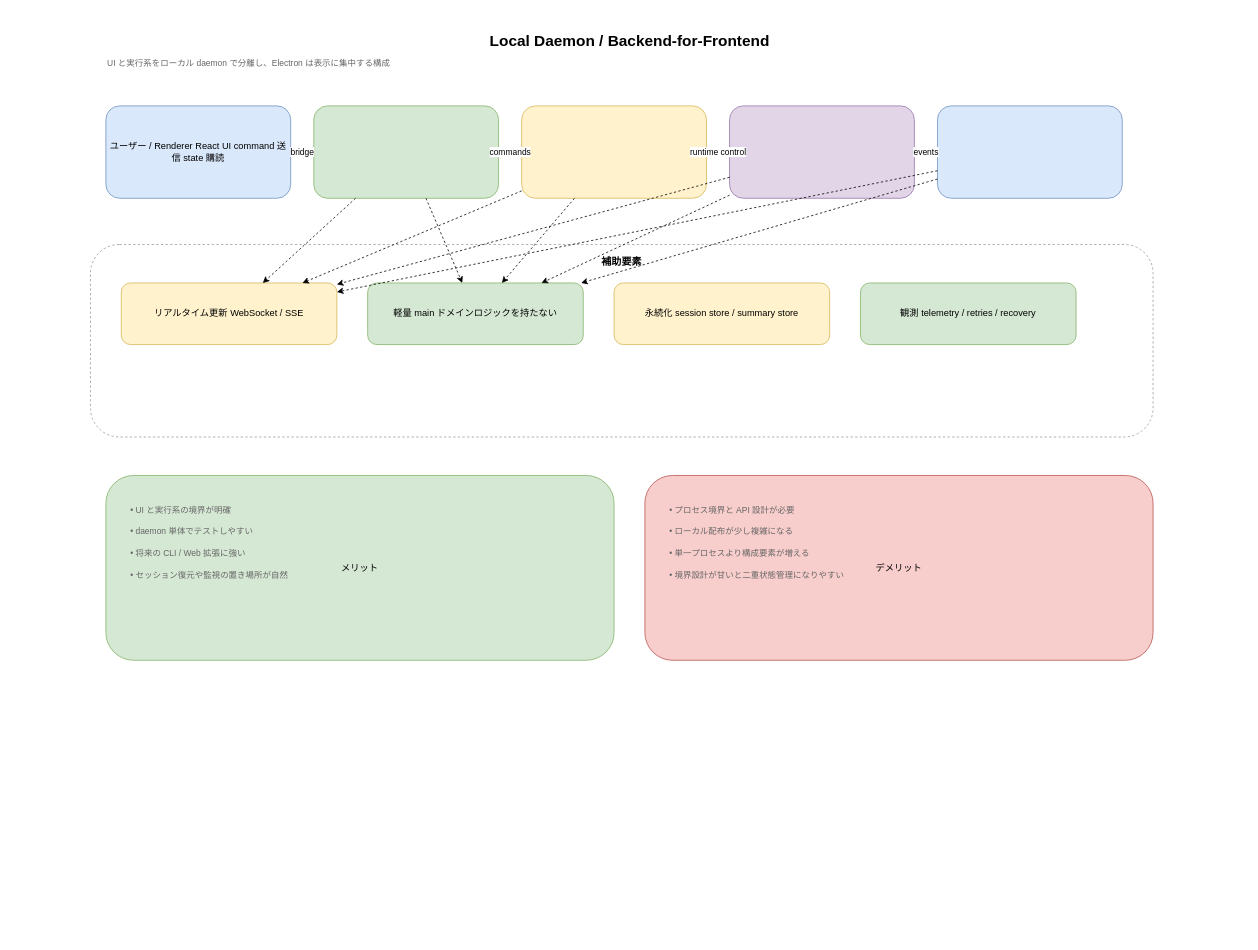
Image size: 1258x950. Some labels were removed from this diagram. Here are the shapes that lost their labels. From the top down, the centre of each, then its label:
the point at 406,151: Electron Main window lifecycle daemon 起動 / 接続
the point at 613,151: Local Daemon MeetingApplicationService SessionManager HealthMonitor
the point at 821,151: Runtime Adapters Claude PTY adapter Hook relay adapter
the point at 1029,151: Claude Runtime Claude Code subagents MCP
